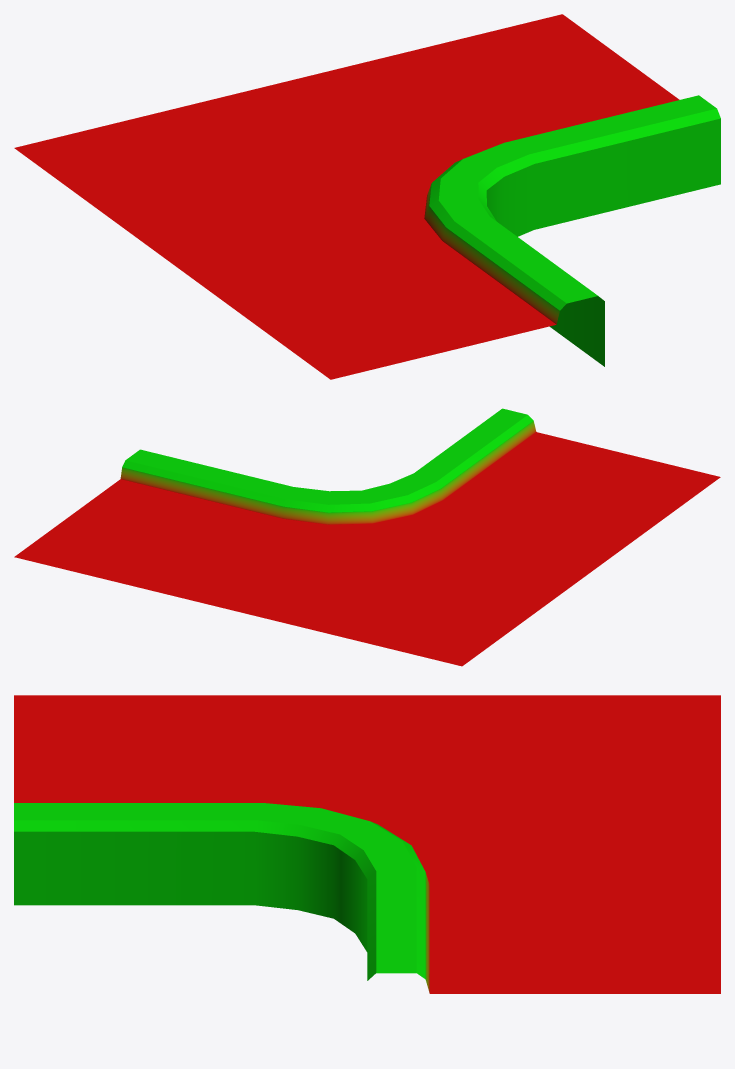
File: NarrowRoad_InnerCorner.fbx
The picture shows the model from 3 angles, top to bottom: view 1: azimuth 30°, elevation 25°; view 2: azimuth 150°, elevation 25°; view 3: azimuth 270°, elevation 25°; orthographic projection. The views are drawn at different scales.
Parts seen in each view (by area): view 1: NarrowRoad_InnerCorner; view 2: NarrowRoad_InnerCorner; view 3: NarrowRoad_InnerCorner.
Part boxes in pixels (left/top/right/bottom): NarrowRoad_InnerCorner: left=14, top=14, right=720, bottom=379; NarrowRoad_InnerCorner: left=14, top=408, right=720, bottom=666; NarrowRoad_InnerCorner: left=14, top=695, right=720, bottom=993.
Bounding box in the file's own units: 200 × 200 × 25.42.
